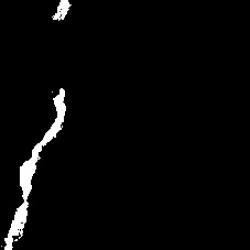crack: (5, 86, 67, 248), (51, 2, 70, 21)
